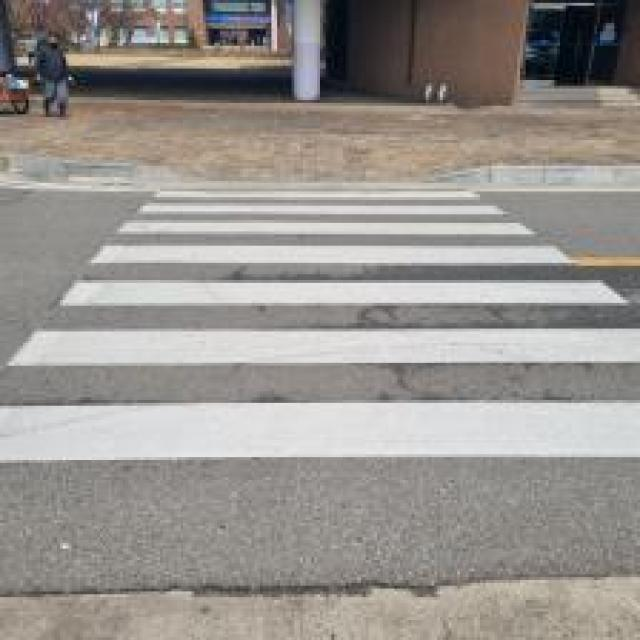crosswalk: (0, 176, 640, 477)
